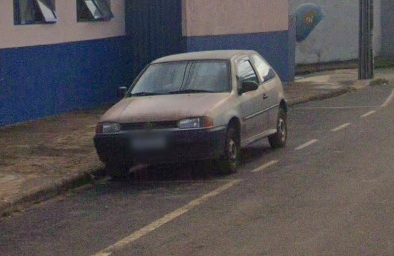car: (91, 44, 293, 188)
